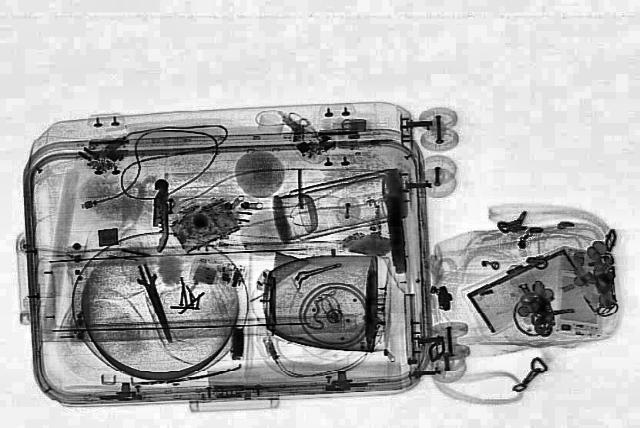Knife: (130, 263, 182, 344)
